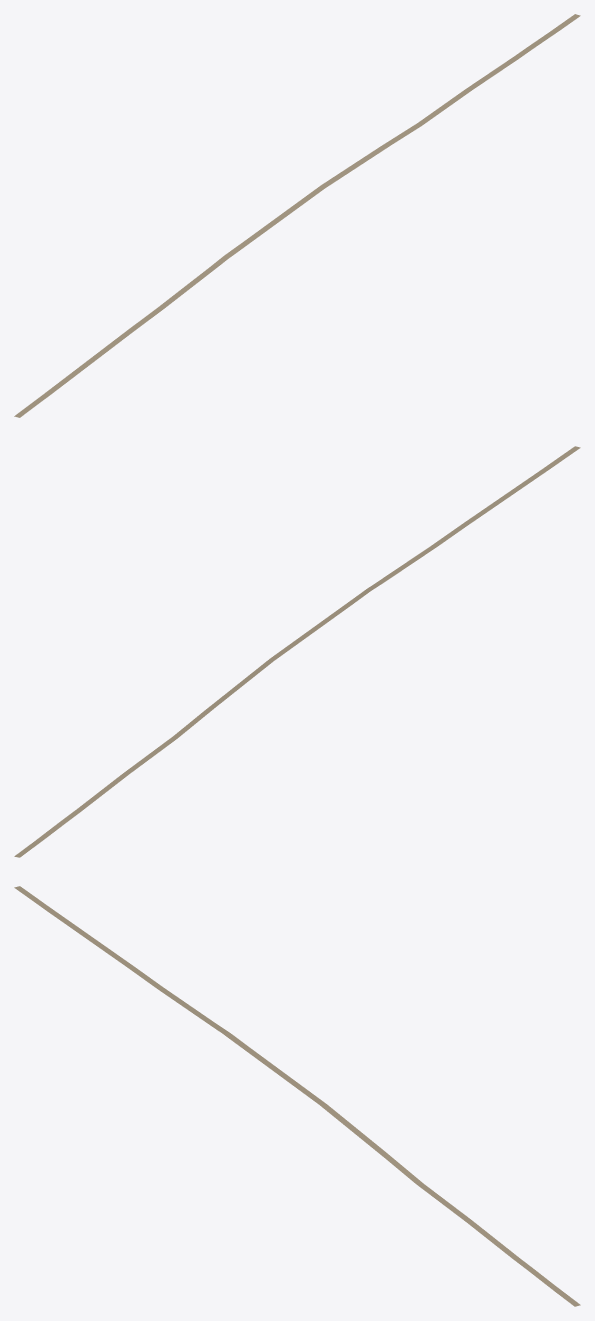
The model's file is farm_23_19_track.glb.
The picture shows the model from 3 angles, top to bottom: view 1: azimuth 30°, elevation 25°; view 2: azimuth 210°, elevation 25°; view 3: azimuth 270°, elevation 25°; orthographic projection.
Parts seen in each view (by area): view 1: geometry_0; view 2: geometry_0; view 3: geometry_0.
Boxes of the visible parts, <box> form: geometry_0: <box>14,14,580,417</box>; geometry_0: <box>14,446,580,857</box>; geometry_0: <box>14,886,580,1306</box>.
Size of the model in its own units: 466 by 6.88 by 268.
